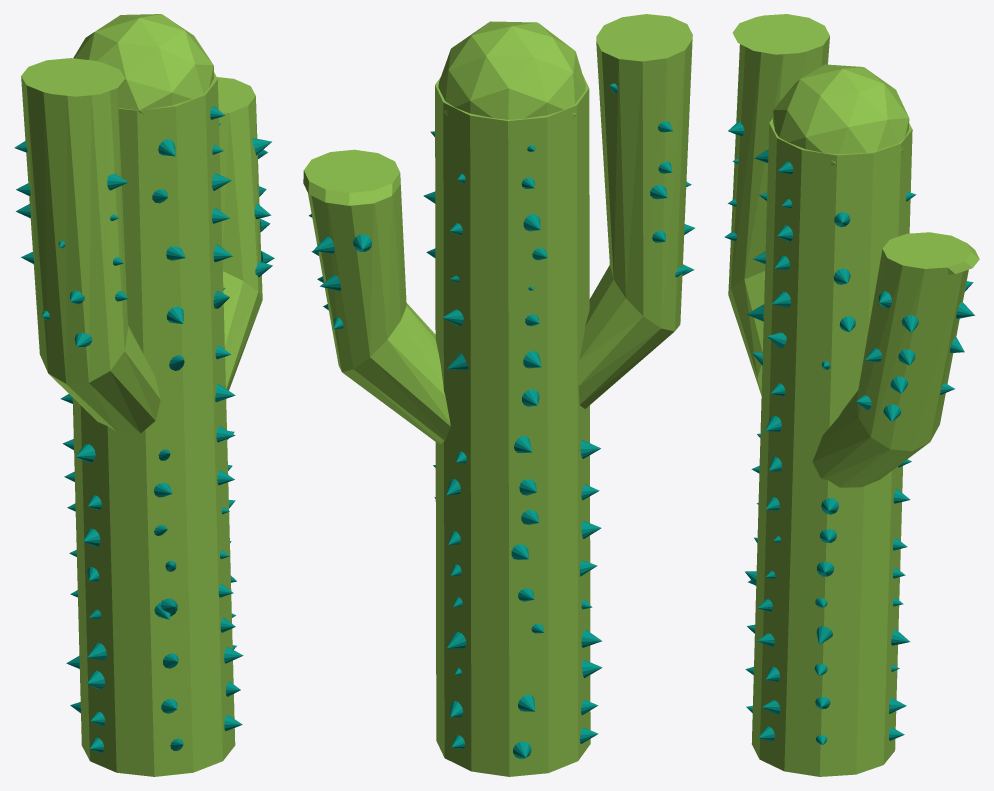
Rendered from Cactus.glb.
3 views of the same model, side by side, from view 1: azimuth 30°, elevation 25°; view 2: azimuth 150°, elevation 25°; view 3: azimuth 270°, elevation 25° (orthographic). The views are drawn at different scales.
Parts seen in each view (by area): view 1: Node; view 2: Node; view 3: Node.
Boxes of the visible parts, x1,y1,x2,y2 form: Node: [14, 14, 274, 776]; Node: [303, 14, 694, 776]; Node: [724, 14, 979, 776].
Bounding box in the file's own units: 0.3709 × 0.8319 × 0.285.
